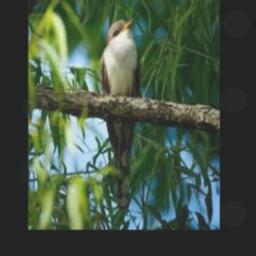Cuckoo: (100, 17, 139, 210)
